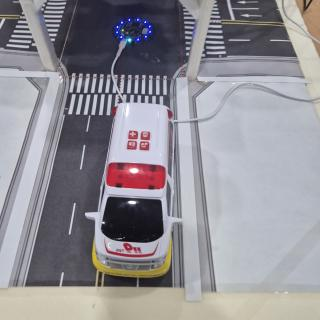Ambulance: (85, 103, 182, 278)
